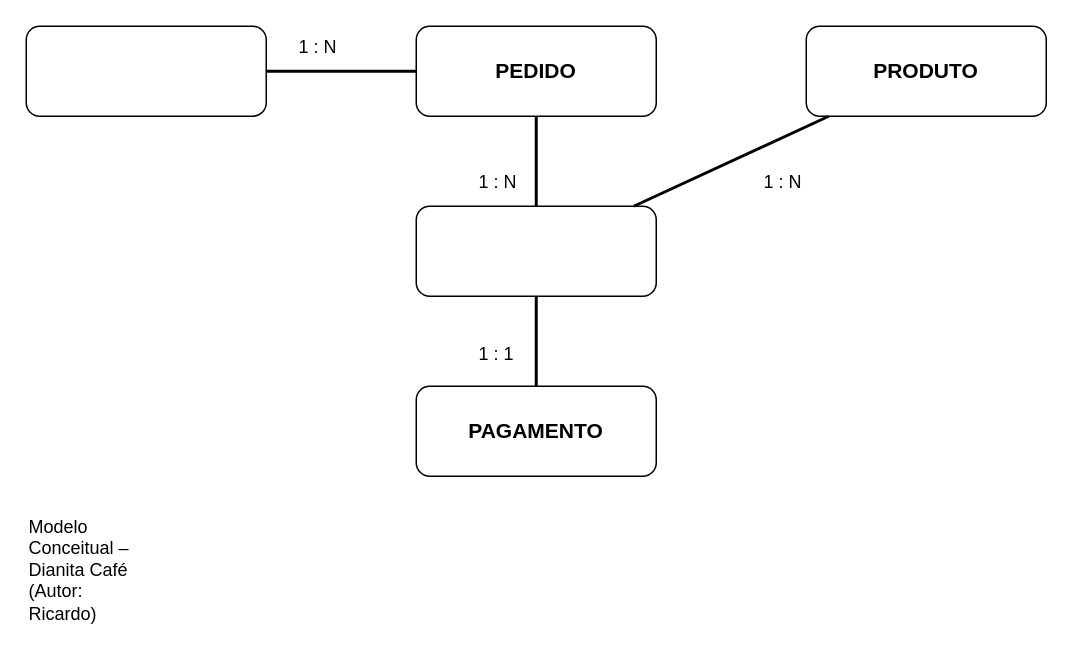
Image size: 1073x651. Some labels were removed from this diagram. Here are the shapes that lost their labels. From the top down, the centre of each, then its label:
At (145,70): "CLIENTE".
At (535,250): "ITEM_PEDIDO".
